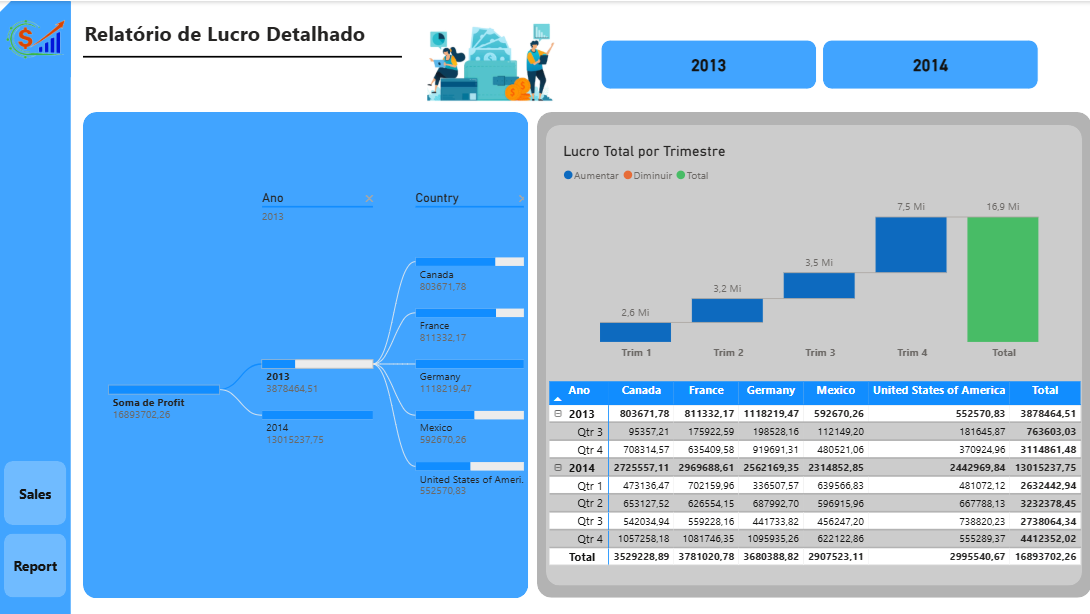

Layout of this report page (visuals, bound fields, positions):
{"tool":"powerbi","page":{"name":"Profile","canvas":[1280,720],"ordinal":1},"visuals":[{"type":"shape","box":[73.3,0,1206.7,720.7],"z":0},{"type":"shape","box":[0,0,83.2,719.9],"z":1000},{"type":"shape","box":[0,1.3,83.2,88.5],"z":2000},{"type":"image","title":"Logo","box":[0,1.4,83.6,87.7],"z":3000},{"type":"shape","box":[97.4,60,374,11.1],"z":4000},{"type":"textbox","box":[93.3,16.4,349.5,49.3],"z":5000},{"type":"pageNavigator","box":[4.5,539.8,73.3,160],"z":6000},{"type":"image","box":[496.4,0,158.5,143.6],"z":8000},{"type":"shape","box":[92.7,125.6,526.4,79.3],"z":10000},{"type":"advancedSlicerVisual","fields":{"Values":["financials.Date.Variation.Hierarquia de datas.Ano"]},"box":[699.9,40.7,522.1,67.9],"z":11000},{"type":"shape","box":[629.5,130.1,650.5,569.7],"z":11500},{"type":"shape","box":[97.5,129.6,522.1,570.3],"z":12000},{"type":"group","id":"g1","title":"Grupo 1","box":[97.5,204.9,522.1,478.9],"z":13000},{"type":"decompositionTreeVisual","fields":{"ExplainBy":["financials.Date.Variation.Hierarquia de datas.Ano","financials.Country","financials.Date.Variation.Hierarquia de datas.Mês","financials.Date.Variation.Hierarquia de datas.Dia","financials.Date.Variation.Hierarquia de datas.Trimestre"],"Analyze":["Sum(financials.Profit)"]},"box":[97.5,204.9,522.1,478.9],"z":13000,"group":"g1"},{"type":"shape","box":[640,145.9,628.5,540.4],"z":13250},{"type":"waterfallChart","title":"Lucro Total por Trimestre","fields":{"Y":["Sum(financials.Profit)"],"Category":["financials.Nome Trimestre"]},"box":[655.3,164.8,613.2,264.4],"z":13500},{"type":"pivotTable","fields":{"Values":["Sum(financials.Profit)"],"Rows":["financials.Date.Variation.Hierarquia de datas.Ano","financials.Date.Variation.Hierarquia de datas.Trimestre"],"Columns":["financials.Country"]},"box":[638.7,440.7,640,245.3],"z":14000}]}

Visuals, with their boxes on the page's 1280x720 design canvas (x1, y1, x2, y2). These are canvas units, not pixel positions in the 1090x614 screenshot, which may show the page scaled, cropped or inside an application window:
shape: crop(73, 0, 1280, 721)
shape: crop(0, 0, 83, 720)
shape: crop(0, 1, 83, 90)
"Logo" image: crop(0, 1, 84, 89)
shape: crop(97, 60, 471, 71)
textbox: crop(93, 16, 443, 66)
pageNavigator: crop(4, 540, 78, 700)
image: crop(496, 0, 655, 144)
shape: crop(93, 126, 619, 205)
advancedSlicerVisual - financials.Date.Variation.Hierarquia de datas.Ano: crop(700, 41, 1222, 109)
shape: crop(630, 130, 1280, 700)
shape: crop(98, 130, 620, 700)
"Grupo 1" group: crop(98, 205, 620, 684)
decompositionTreeVisual - financials.Date.Variation.Hierarquia de datas.Ano x financials.Country: crop(98, 205, 620, 684)
shape: crop(640, 146, 1268, 686)
"Lucro Total por Trimestre" waterfallChart: crop(655, 165, 1268, 429)
pivotTable - Sum(financials.Profit) x financials.Date.Variation.Hierarquia de datas.Ano: crop(639, 441, 1279, 686)
